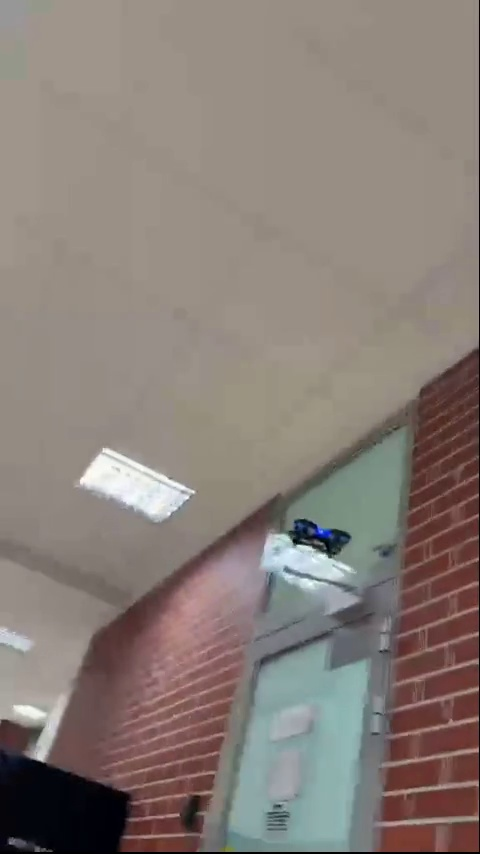drone: (286, 514, 361, 559)
